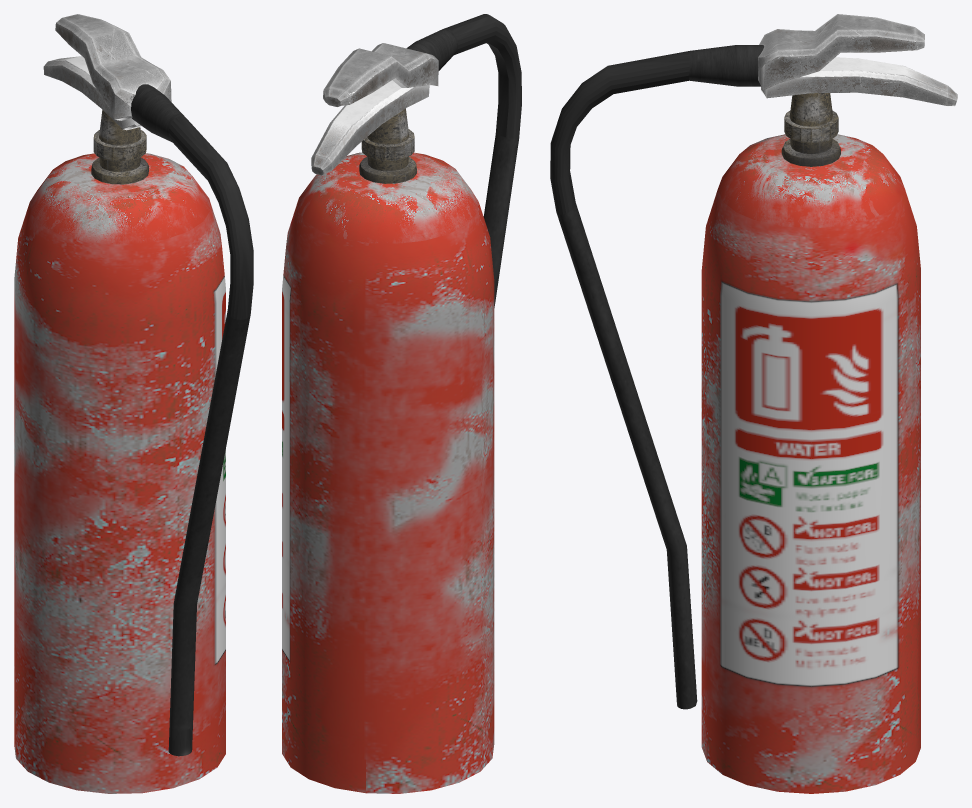
Rendered from FireExquisher.fbx.
3 views of the same model, side by side, from view 1: azimuth 30°, elevation 25°; view 2: azimuth 150°, elevation 25°; view 3: azimuth 270°, elevation 25° (orthographic). The views are drawn at different scales.
Parts seen in each view (by area): view 1: pCylinder25, pCylinder29, pCube638, pCylinder26, pCube637; view 2: pCylinder25, pCylinder29, pCube638, pCube637, pCylinder26; view 3: pCylinder25, pCylinder29, pCube638, pCube637, pCylinder26.
Boxes of the visible parts, x1=… form: pCylinder25: x1=14, y1=153, x2=225, y2=793; pCylinder29: x1=131, y1=84, x2=253, y2=756; pCube638: x1=55, y1=14, x2=171, y2=120; pCylinder26: x1=91, y1=110, x2=148, y2=184; pCube637: x1=43, y1=56, x2=141, y2=130; pCylinder25: x1=282, y1=152, x2=494, y2=793; pCylinder29: x1=406, y1=14, x2=521, y2=307; pCube638: x1=323, y1=43, x2=438, y2=106; pCube637: x1=311, y1=80, x2=429, y2=175; pCylinder26: x1=359, y1=108, x2=416, y2=183; pCylinder25: x1=701, y1=134, x2=920, y2=793; pCylinder29: x1=550, y1=45, x2=764, y2=709; pCube638: x1=758, y1=14, x2=924, y2=90; pCube637: x1=761, y1=57, x2=957, y2=106; pCylinder26: x1=781, y1=93, x2=840, y2=166.
Size of the model in its own units: 0.2403 by 0.8777 by 0.4465.
4 materials, 4 textured.
